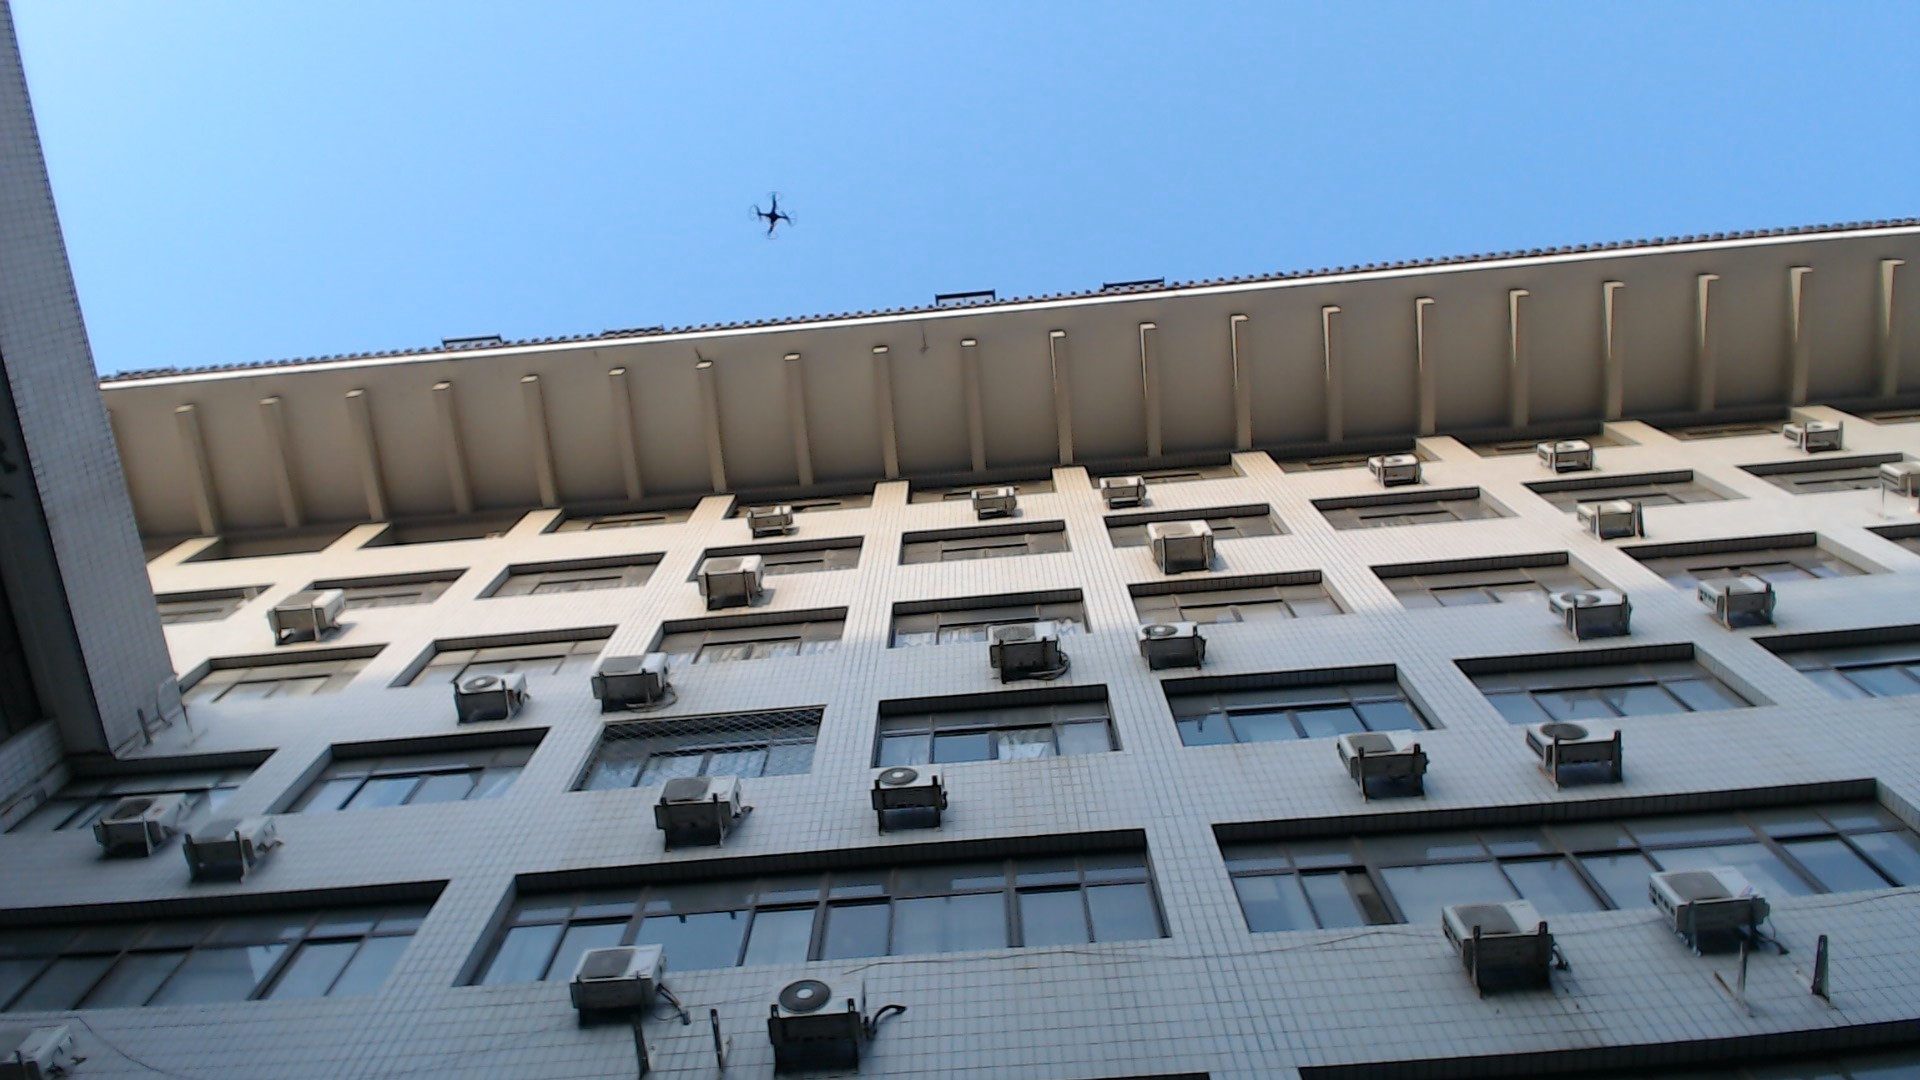drone: (729, 175, 814, 251)
